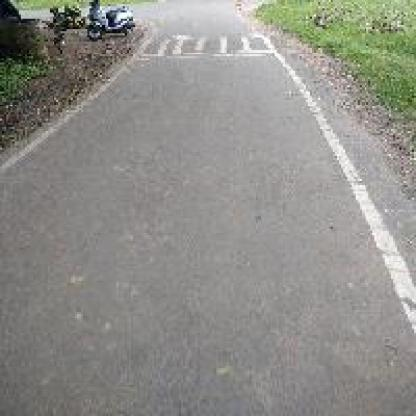Speed Bump: (131, 29, 277, 63)
